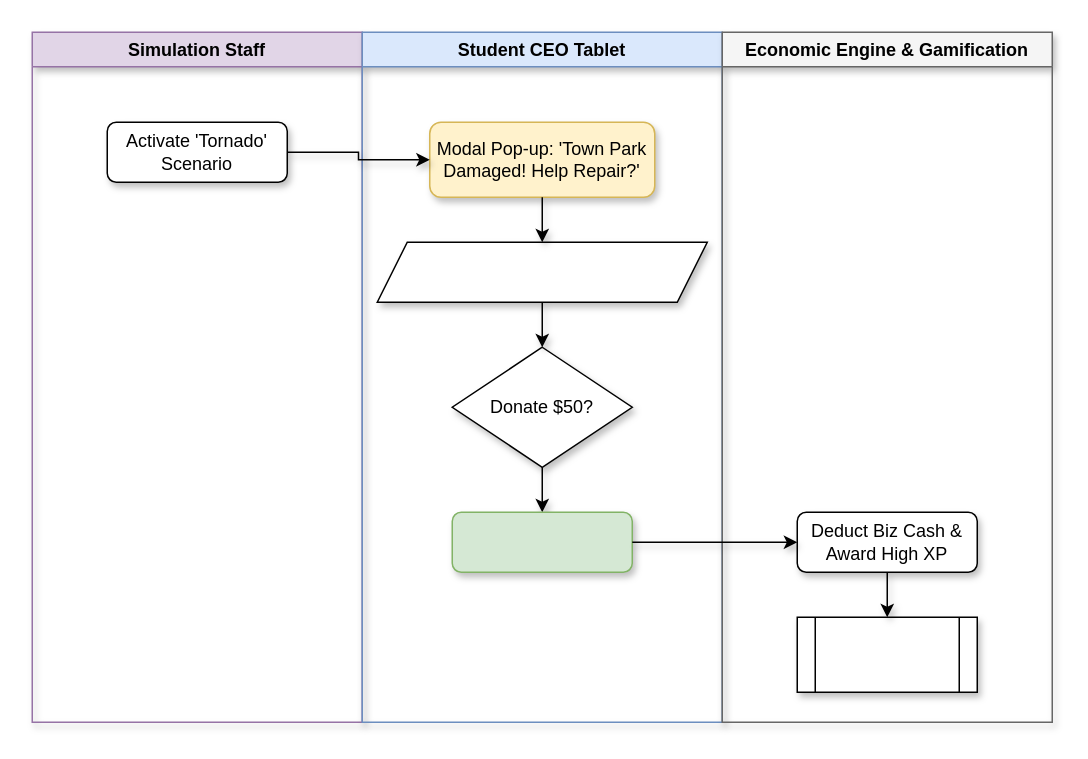
This 1088x759 diagram has some shape labels left out. Each missing label, with the centre of its shape:
"Approve Payment" belongs at pixel 543 544.
"Review Business Cash Flow" belongs at pixel 543 274.
"Update Town Leaderboard & Feed" belongs at pixel 888 656.
